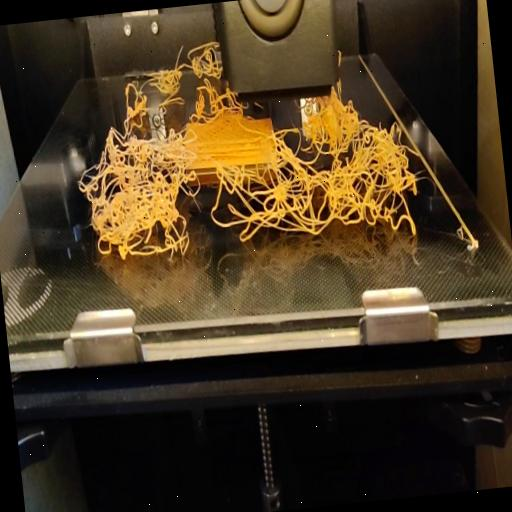spaghetti: (70, 79, 428, 270), (118, 31, 228, 117)
